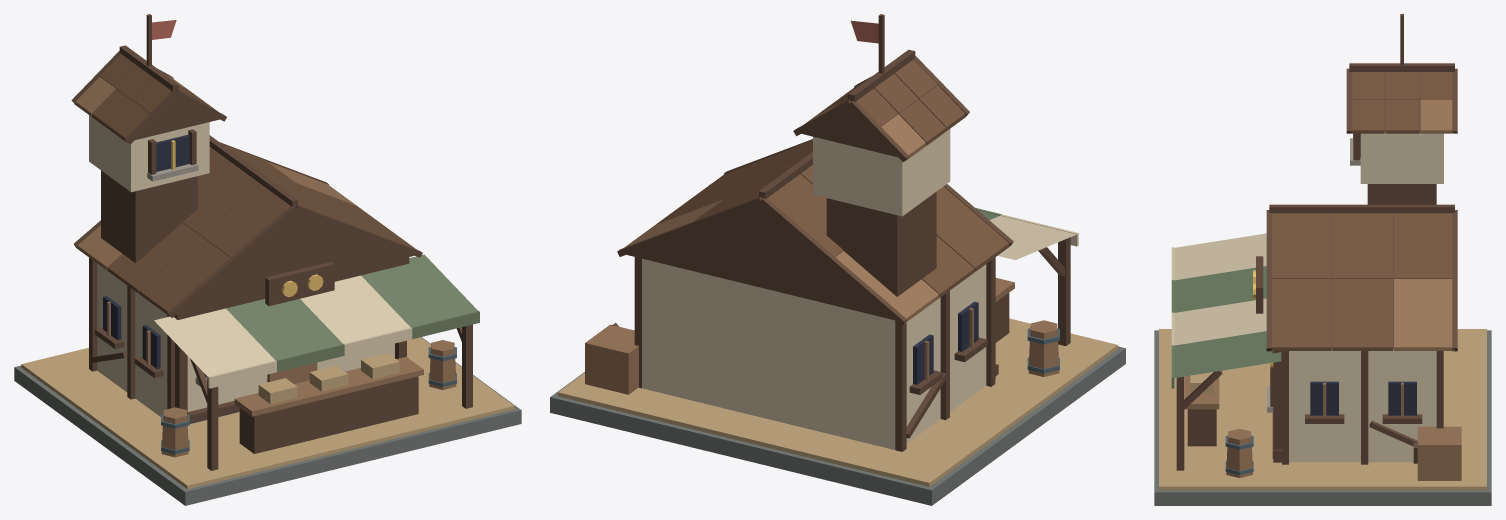
Rendered from ENV_Landmark_outpost_LOD1.glb.
The picture shows the model from 3 angles, left to right: view 1: azimuth 30°, elevation 25°; view 2: azimuth 150°, elevation 25°; view 3: azimuth 270°, elevation 25°; orthographic projection. The views are drawn at different scales.
Parts seen in each view (by area): view 1: ENV_Landmark_outpost_LOD1_s3-6_sand, ENV_Landmark_outpost_LOD1_s3-6_plasterIvory, ENV_Landmark_outpost_LOD1_s3-6_woodDark, ENV_Landmark_outpost_LOD1_s4-6_roofDark, ENV_Landmark_outpost_LOD1_s4-6_woodDark, ENV_Landmark_outpost_LOD1_s3-6_olive, ENV_Landmark_outpost_LOD1_s5-6_woodDark, ENV_Landmark_outpost_LOD1_s3-6_stoneDark, ENV_Landmark_outpost_LOD1_s5-6_plasterIvory, ENV_Landmark_outpost_LOD1_s5-6_roofDark, ENV_Landmark_outpost_LOD1_s3-6_woodLight, ENV_Landmark_outpost_LOD1_s4-6_woodLight (+4 smaller); view 2: ENV_Landmark_outpost_LOD1_s3-6_plasterIvory, ENV_Landmark_outpost_LOD1_s3-6_sand, ENV_Landmark_outpost_LOD1_s4-6_woodDark, ENV_Landmark_outpost_LOD1_s5-6_woodDark, ENV_Landmark_outpost_LOD1_s3-6_stoneDark, ENV_Landmark_outpost_LOD1_s4-6_roofDark, ENV_Landmark_outpost_LOD1_s3-6_woodDark, ENV_Landmark_outpost_LOD1_s5-6_plasterIvory, ENV_Landmark_outpost_LOD1_s5-6_roofDark, ENV_Landmark_outpost_LOD1_s6-6_woodLight, ENV_Landmark_outpost_LOD1_s4-6_woodLight, ENV_Landmark_outpost_LOD1_s3-6_ink (+2 smaller); view 3: ENV_Landmark_outpost_LOD1_s4-6_roofDark, ENV_Landmark_outpost_LOD1_s3-6_sand, ENV_Landmark_outpost_LOD1_s3-6_plasterIvory, ENV_Landmark_outpost_LOD1_s3-6_stoneDark, ENV_Landmark_outpost_LOD1_s3-6_woodDark, ENV_Landmark_outpost_LOD1_s3-6_olive, ENV_Landmark_outpost_LOD1_s4-6_woodLight, ENV_Landmark_outpost_LOD1_s5-6_roofDark, ENV_Landmark_outpost_LOD1_s4-6_woodDark, ENV_Landmark_outpost_LOD1_s5-6_plasterIvory, ENV_Landmark_outpost_LOD1_s5-6_woodDark, ENV_Landmark_outpost_LOD1_s6-6_woodLight (+3 smaller).
Part boxes in pixels (left/top/right/bottom): ENV_Landmark_outpost_LOD1_s3-6_sand: left=21, top=337, right=514, bottom=489; ENV_Landmark_outpost_LOD1_s3-6_plasterIvory: left=97, top=264, right=412, bottom=424; ENV_Landmark_outpost_LOD1_s3-6_woodDark: left=89, top=257, right=472, bottom=470; ENV_Landmark_outpost_LOD1_s4-6_roofDark: left=107, top=144, right=416, bottom=315; ENV_Landmark_outpost_LOD1_s4-6_woodDark: left=74, top=135, right=422, bottom=317; ENV_Landmark_outpost_LOD1_s3-6_olive: left=226, top=254, right=479, bottom=371; ENV_Landmark_outpost_LOD1_s5-6_woodDark: left=71, top=45, right=226, bottom=263; ENV_Landmark_outpost_LOD1_s3-6_stoneDark: left=14, top=337, right=521, bottom=505; ENV_Landmark_outpost_LOD1_s5-6_plasterIvory: left=89, top=115, right=209, bottom=192; ENV_Landmark_outpost_LOD1_s5-6_roofDark: left=92, top=54, right=216, bottom=142; ENV_Landmark_outpost_LOD1_s3-6_woodLight: left=107, top=301, right=423, bottom=416; ENV_Landmark_outpost_LOD1_s4-6_woodLight: left=76, top=161, right=456, bottom=389; ENV_Landmark_outpost_LOD1_s3-6_plasterIvory: left=642, top=214, right=1078, bottom=449; ENV_Landmark_outpost_LOD1_s3-6_sand: left=558, top=318, right=1117, bottom=486; ENV_Landmark_outpost_LOD1_s4-6_woodDark: left=617, top=139, right=1013, bottom=325; ENV_Landmark_outpost_LOD1_s5-6_woodDark: left=793, top=49, right=969, bottom=296; ENV_Landmark_outpost_LOD1_s3-6_stoneDark: left=550, top=346, right=1125, bottom=505; ENV_Landmark_outpost_LOD1_s4-6_roofDark: left=656, top=140, right=1010, bottom=297; ENV_Landmark_outpost_LOD1_s3-6_woodDark: left=634, top=237, right=1070, bottom=451; ENV_Landmark_outpost_LOD1_s5-6_plasterIvory: left=813, top=129, right=950, bottom=216; ENV_Landmark_outpost_LOD1_s5-6_roofDark: left=817, top=59, right=966, bottom=145; ENV_Landmark_outpost_LOD1_s6-6_woodLight: left=585, top=320, right=1059, bottom=394; ENV_Landmark_outpost_LOD1_s4-6_woodLight: left=624, top=199, right=939, bottom=323; ENV_Landmark_outpost_LOD1_s3-6_ink: left=913, top=301, right=978, bottom=384; ENV_Landmark_outpost_LOD1_s4-6_roofDark: left=1270, top=213, right=1452, bottom=350; ENV_Landmark_outpost_LOD1_s3-6_sand: left=1159, top=329, right=1486, bottom=490; ENV_Landmark_outpost_LOD1_s3-6_plasterIvory: left=1171, top=233, right=1436, bottom=462; ENV_Landmark_outpost_LOD1_s3-6_stoneDark: left=1154, top=330, right=1491, bottom=505; ENV_Landmark_outpost_LOD1_s3-6_woodDark: left=1176, top=351, right=1443, bottom=470; ENV_Landmark_outpost_LOD1_s3-6_olive: left=1171, top=266, right=1281, bottom=388; ENV_Landmark_outpost_LOD1_s4-6_woodLight: left=1226, top=279, right=1454, bottom=477; ENV_Landmark_outpost_LOD1_s5-6_roofDark: left=1350, top=72, right=1452, bottom=133; ENV_Landmark_outpost_LOD1_s4-6_woodDark: left=1256, top=204, right=1457, bottom=351; ENV_Landmark_outpost_LOD1_s5-6_plasterIvory: left=1360, top=132, right=1443, bottom=183; ENV_Landmark_outpost_LOD1_s5-6_woodDark: left=1346, top=63, right=1457, bottom=204; ENV_Landmark_outpost_LOD1_s6-6_woodLight: left=1417, top=426, right=1461, bottom=480.
Size of the model in its own units: 9.2 by 9.86 by 8.1.
